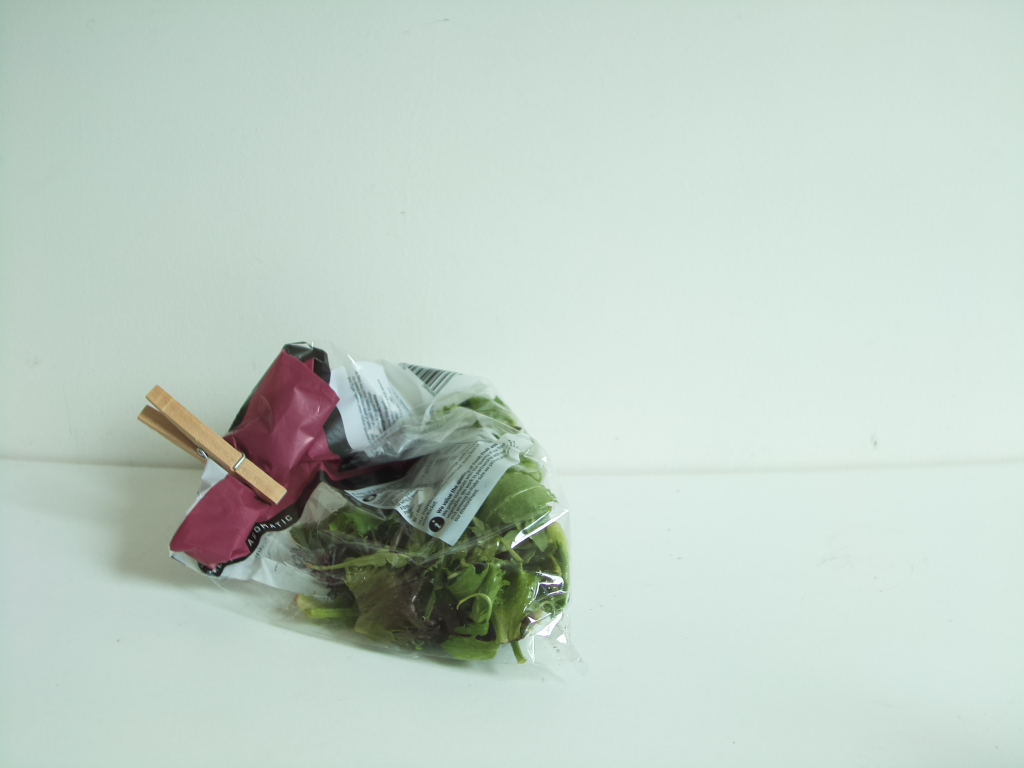salad: (177, 338, 570, 673)
